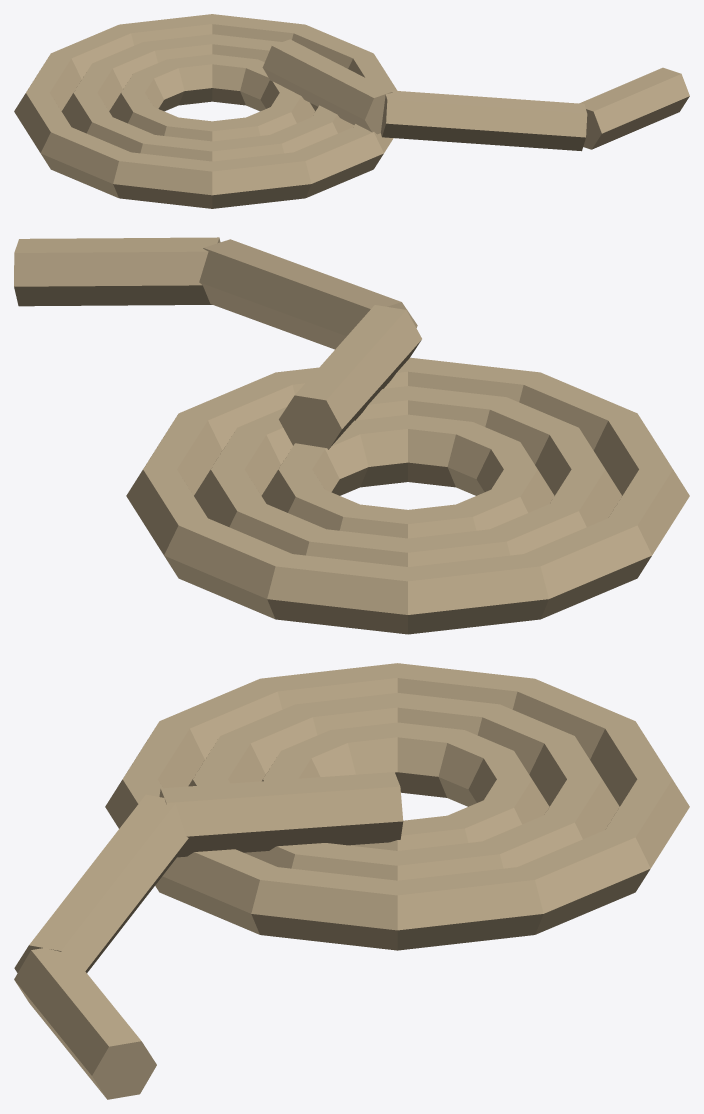
Rendered from PirateCove_RopeCoil_Simple.glb.
3 renders of one model, top to bottom at view 1: azimuth 30°, elevation 25°; view 2: azimuth 150°, elevation 25°; view 3: azimuth 270°, elevation 25°, orthographic. The views are drawn at different scales.
Parts seen in each view (by area): view 1: PirateCove_RopeCoil_Simple; view 2: PirateCove_RopeCoil_Simple; view 3: PirateCove_RopeCoil_Simple.
Part boxes in pixels (<box>): PirateCove_RopeCoil_Simple: <box>14,14,689,208</box>; PirateCove_RopeCoil_Simple: <box>14,237,689,634</box>; PirateCove_RopeCoil_Simple: <box>14,663,689,1099</box>.
Size of the model in its own units: 1.19 by 0.1479 by 0.8668.
